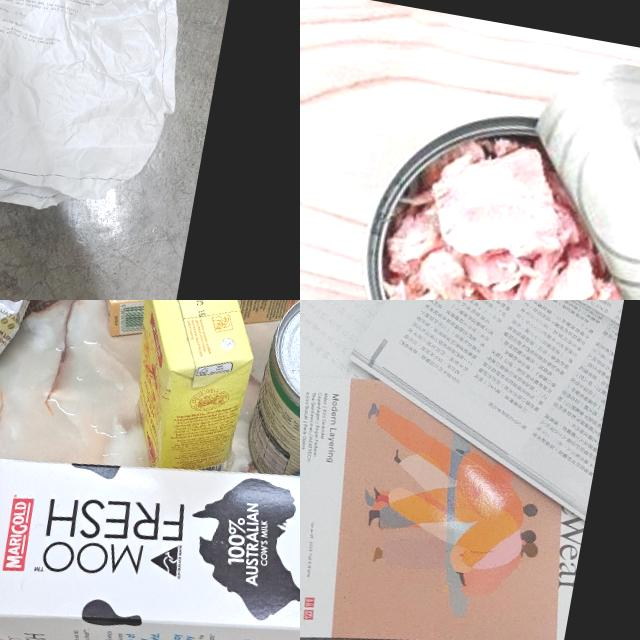caixinha: (0, 404, 300, 640), (105, 300, 260, 476), (87, 300, 300, 371)
lata: (334, 19, 640, 300), (244, 300, 300, 502), (0, 300, 107, 383)
papel: (300, 300, 640, 640), (0, 0, 213, 231)
